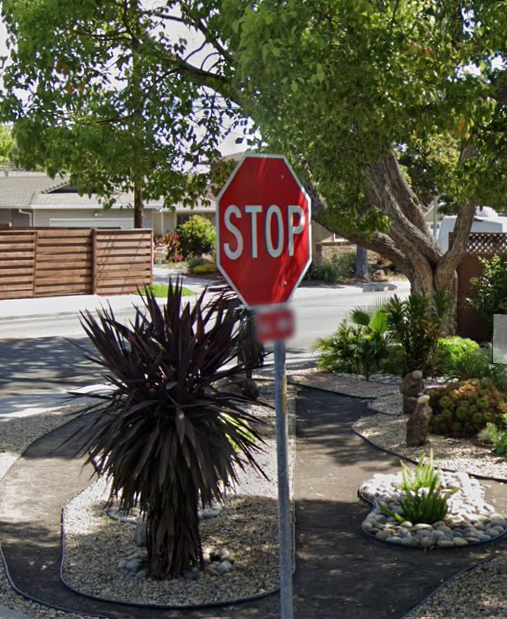stop_sign: (218, 156, 313, 308)
